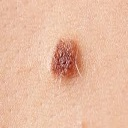Melanoma: (50, 37, 81, 76)
